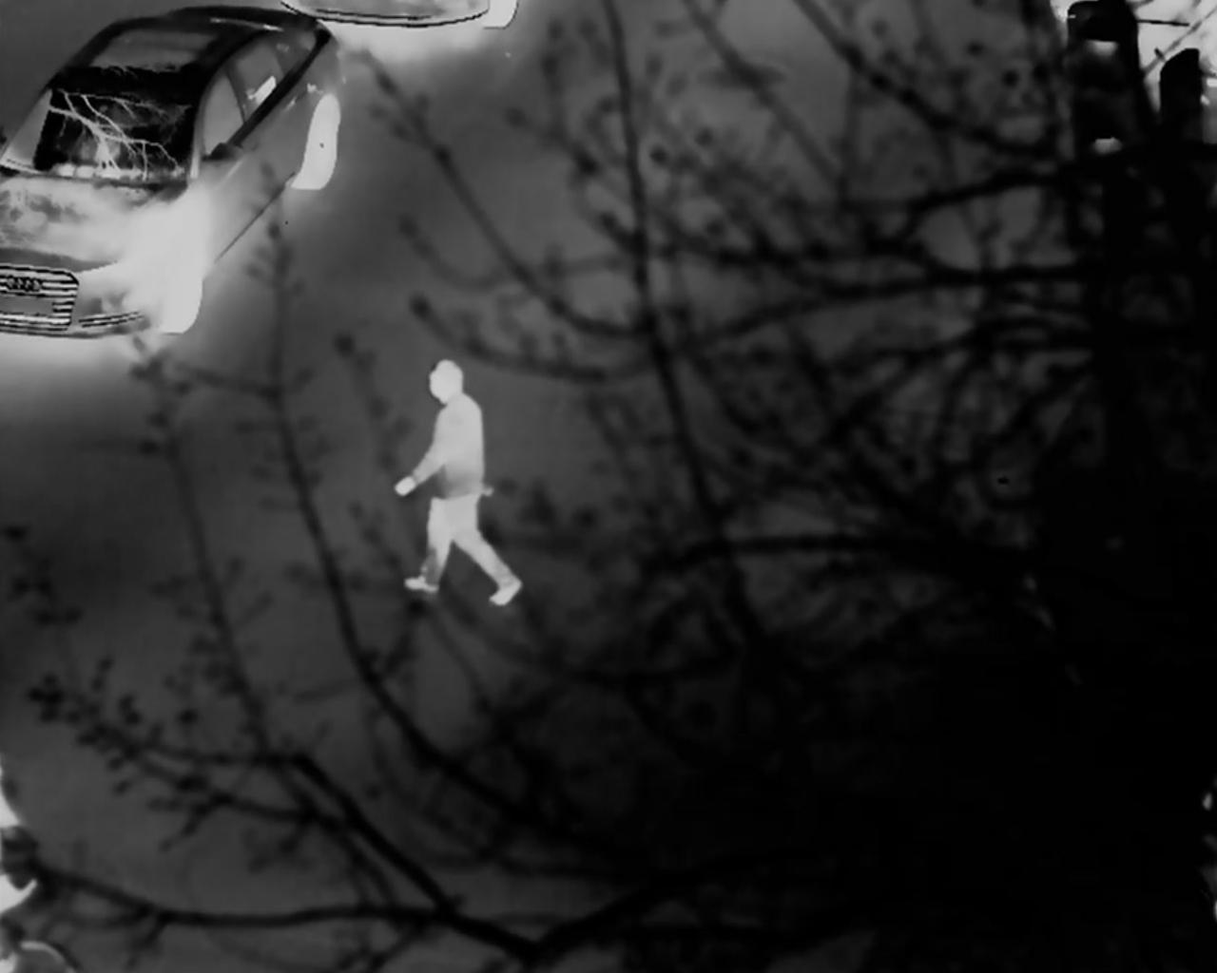person: (412, 361, 521, 601)
